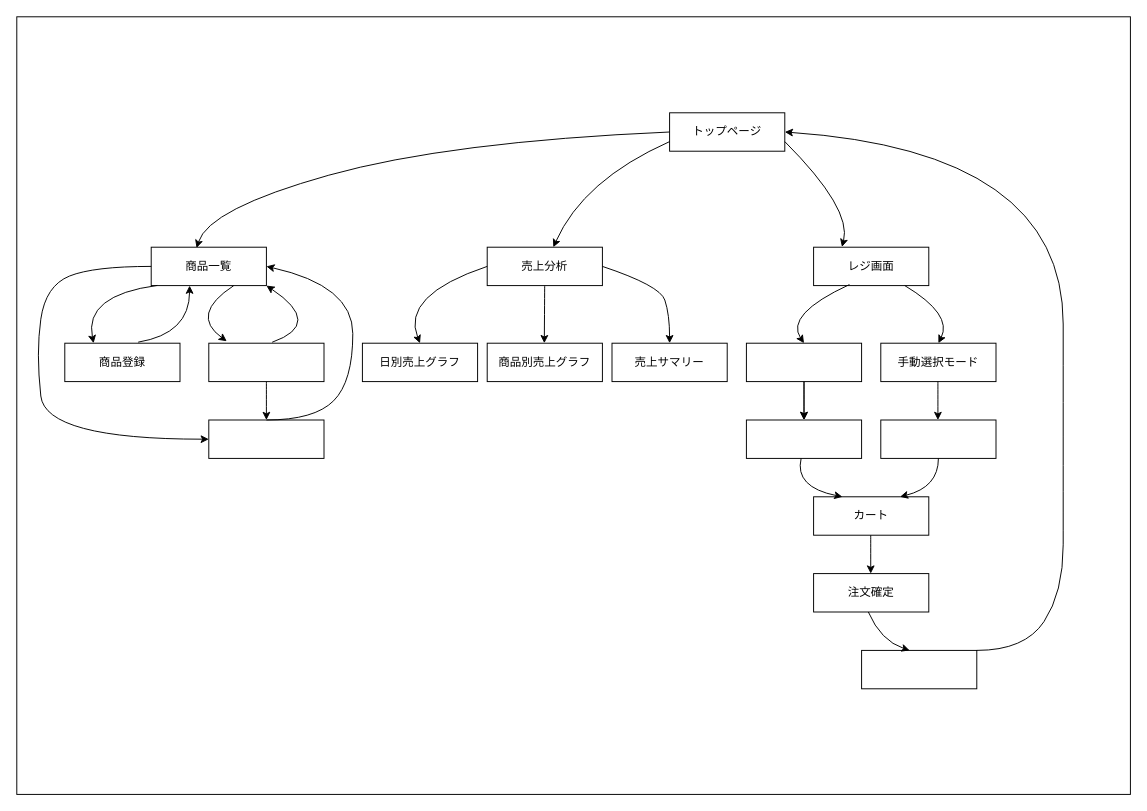
Image size: 1147x811. Some labels were removed from this diagram. The centre of each missing label's shape, as x and y in pixels:
カメラ認識モード: (803,362)
商品編集: (266,438)
商品詳細: (266,362)
商品認識結果: (803,438)
商品選択: (938,438)
注文完了: (919,669)
